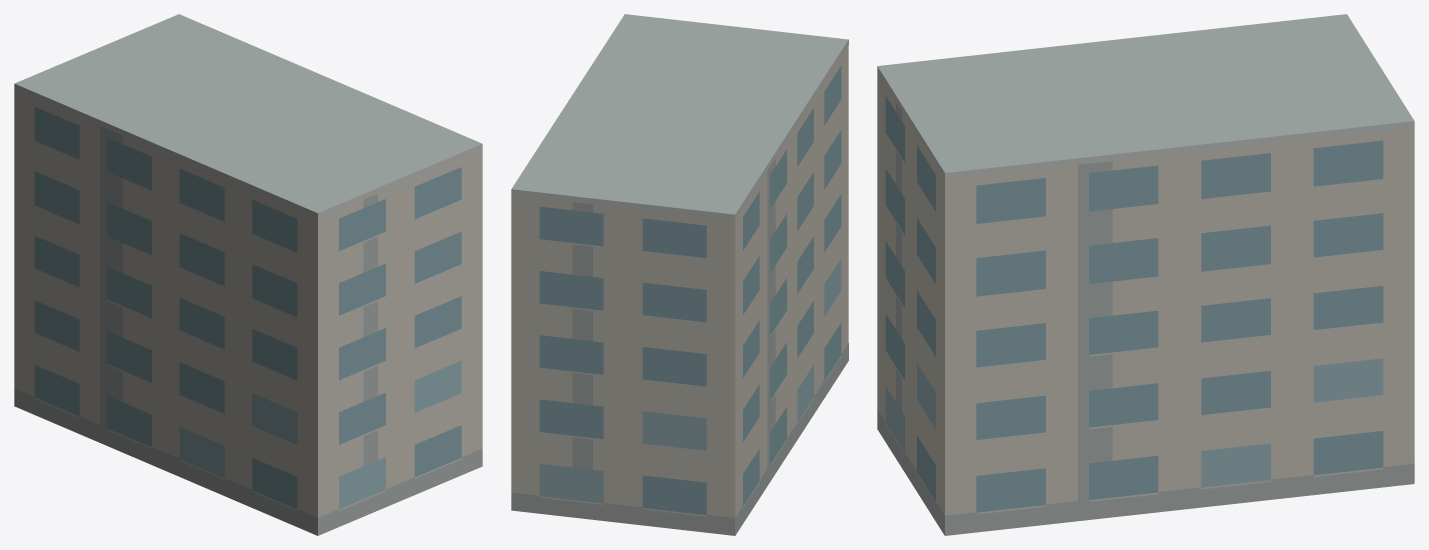
File: survey-upis-32635418.glb
3 views of the same model, side by side, from view 1: azimuth 30°, elevation 25°; view 2: azimuth 150°, elevation 25°; view 3: azimuth 270°, elevation 25° (orthographic). The views are drawn at different scales.
Visible parts, largest first — view 1: survey-upis-32635418.tmp; view 2: survey-upis-32635418.tmp; view 3: survey-upis-32635418.tmp.
Part boxes in pixels (left/top/right/bottom): survey-upis-32635418.tmp: left=14, top=14, right=482, bottom=535; survey-upis-32635418.tmp: left=511, top=14, right=848, bottom=535; survey-upis-32635418.tmp: left=877, top=14, right=1414, bottom=535.
Bounding box in the file's own units: 12.6 × 13.4 × 17.99.
